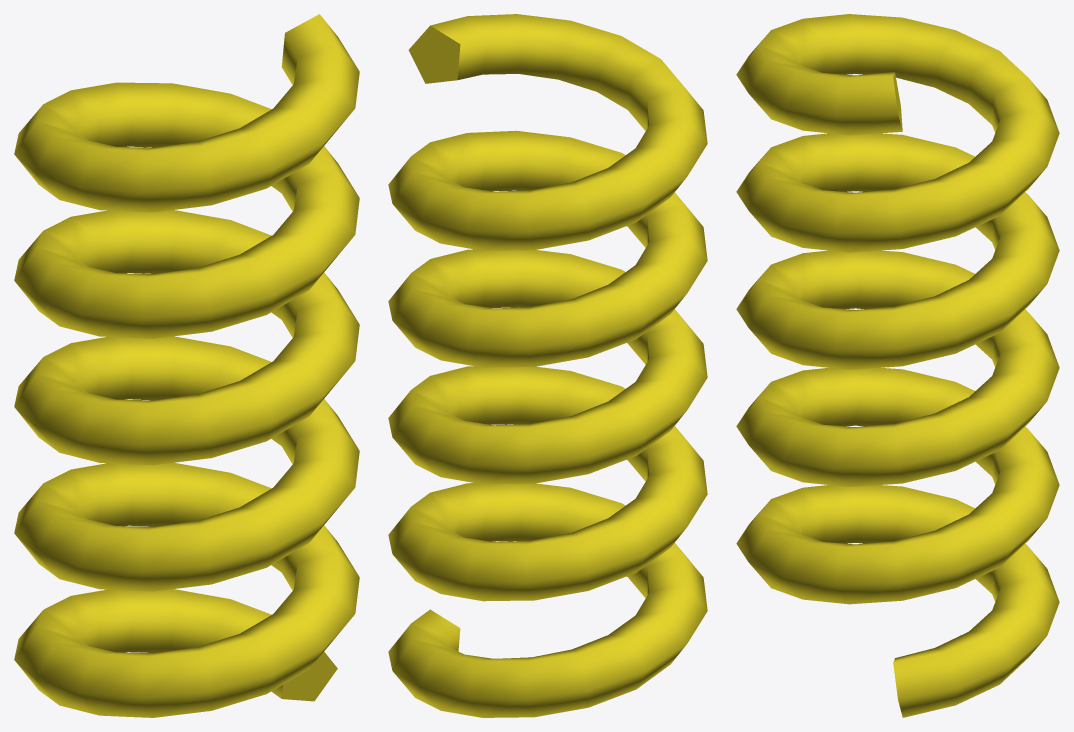
File: spring.obj
3 renders of one model, left to right at view 1: azimuth 30°, elevation 25°; view 2: azimuth 150°, elevation 25°; view 3: azimuth 270°, elevation 25°, orthographic. The views are drawn at different scales.
Visible parts, largest first — view 1: Spring001; view 2: Spring001; view 3: Spring001.
Boxes of the visible parts, box(x1,y1,x2,y2) form: Spring001: box(14, 14, 359, 717); Spring001: box(388, 14, 707, 717); Spring001: box(736, 14, 1059, 717).
Bounding box in the file's own units: 0.25 × 0.547 × 0.25.
